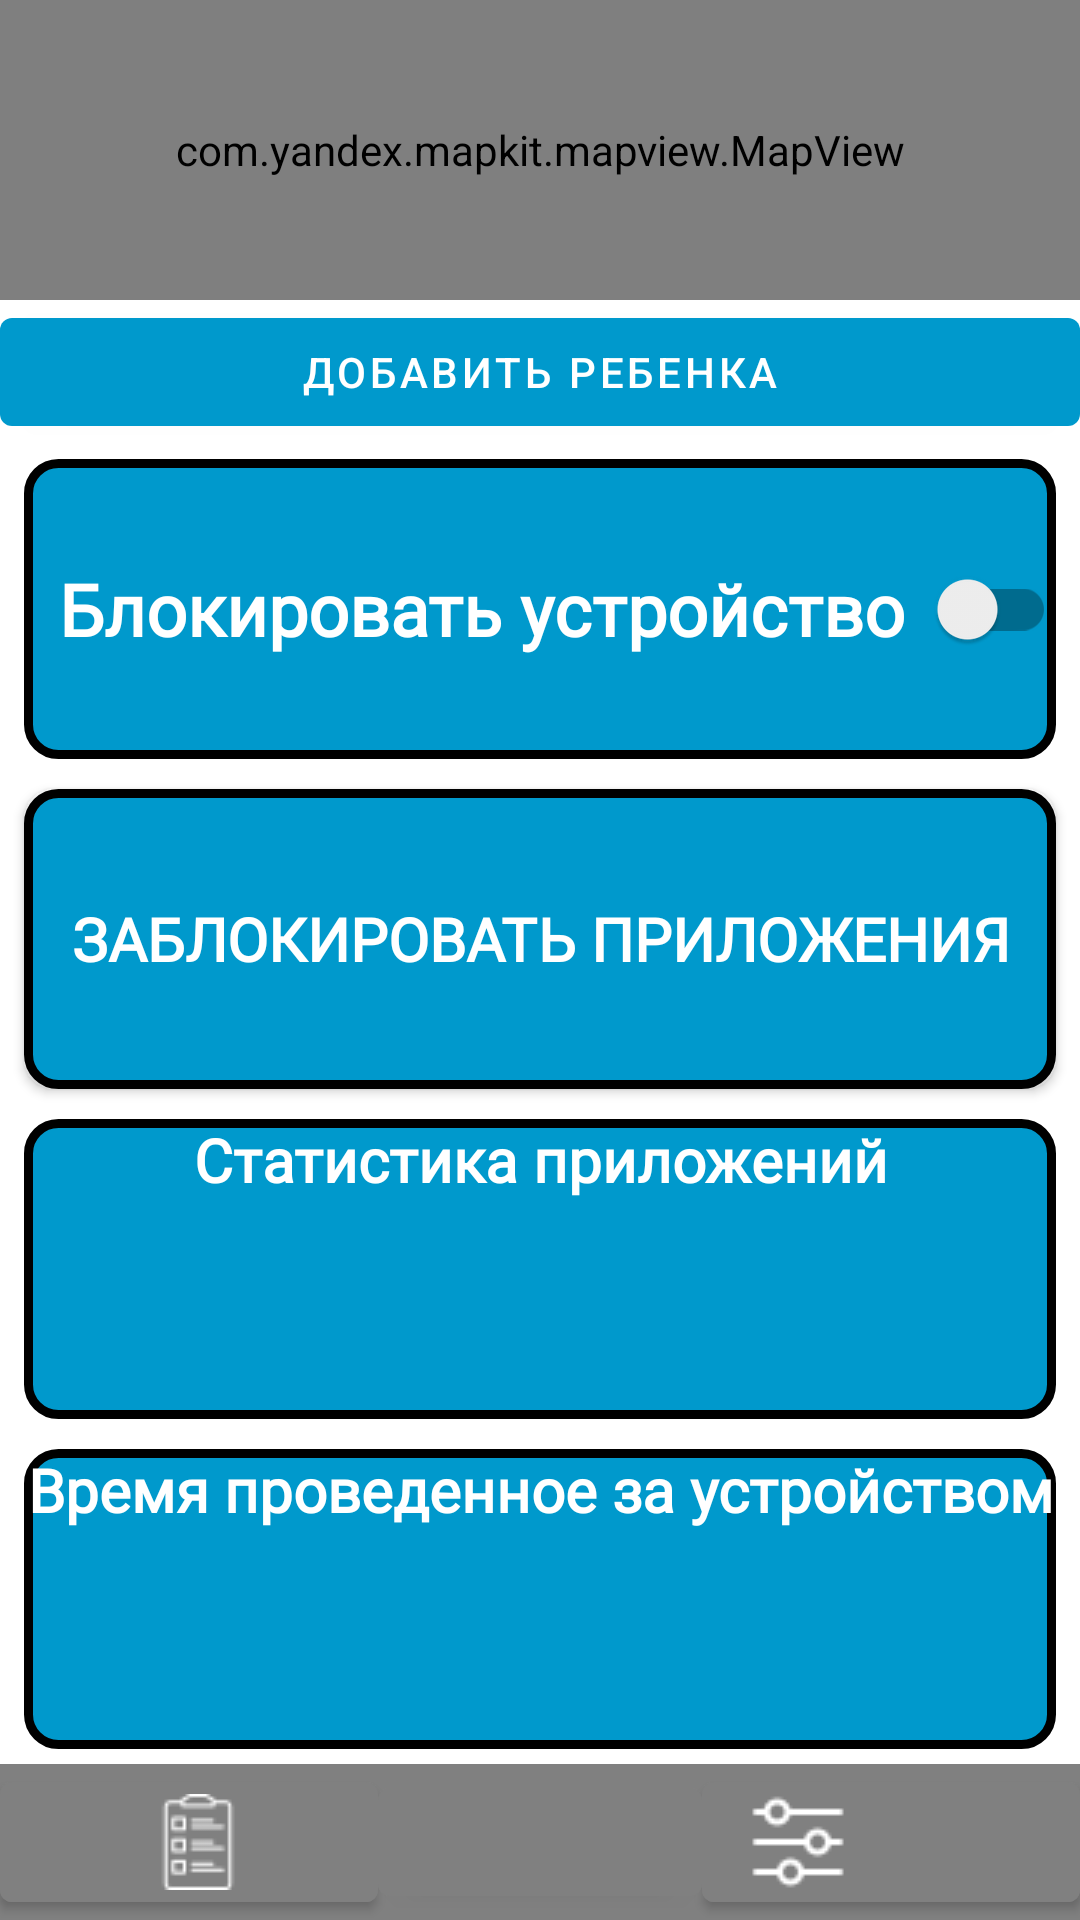

Named icons in this screenshot (1080×1920) and their bounding boxes, (x1, y1, x2, y2):
free report: (163, 1794, 233, 1890)
free settings: (752, 1797, 844, 1887)
